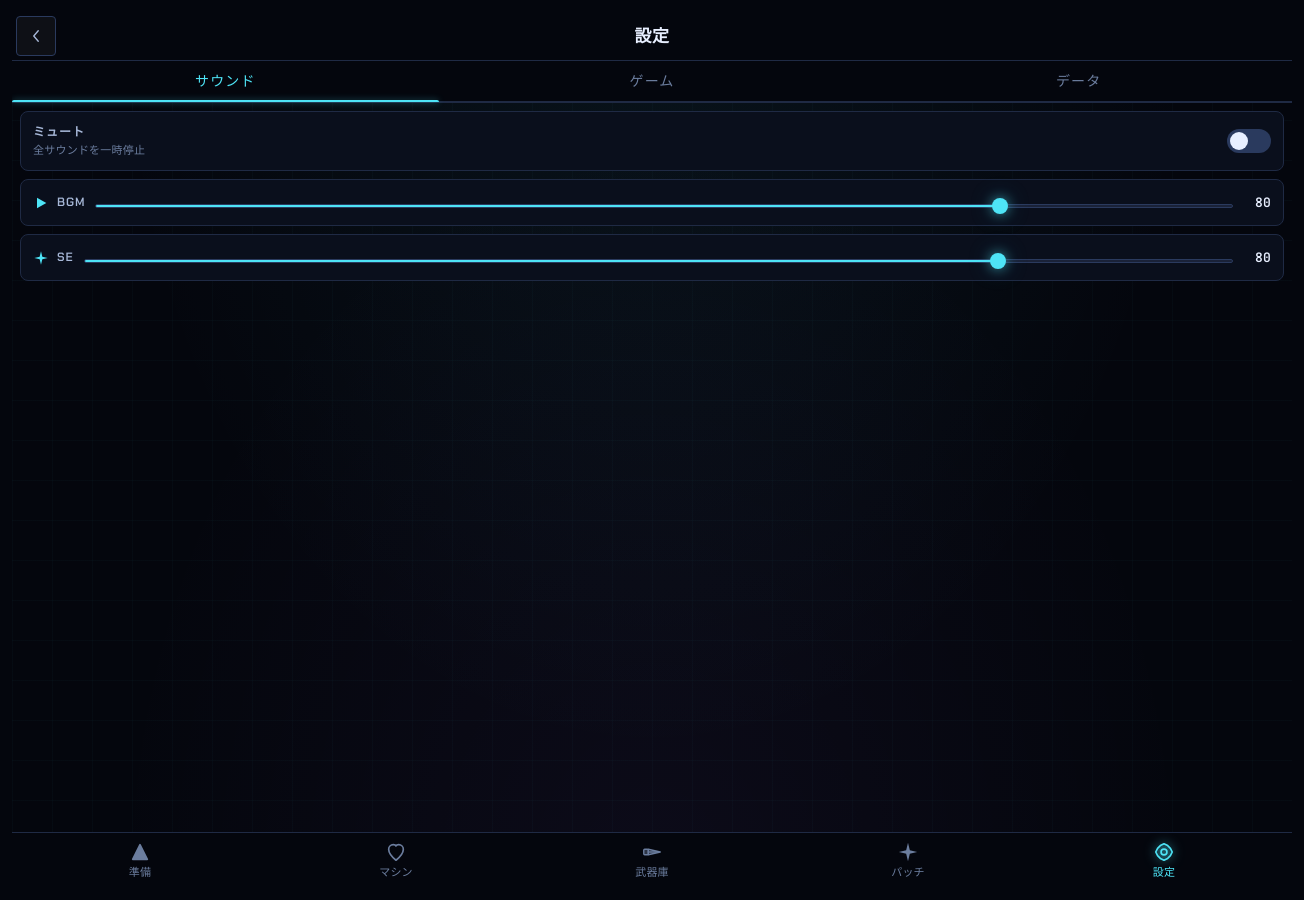
Test: SettingsScreen › 「データ」タブをクリックすると DataSettingsTab が表示される
The image size is (1304, 900).
What coordinates should you click on to do the following:
click the tab "データ"
I would click on:
 (1079, 81)
Its box is [865,61,1292,101].
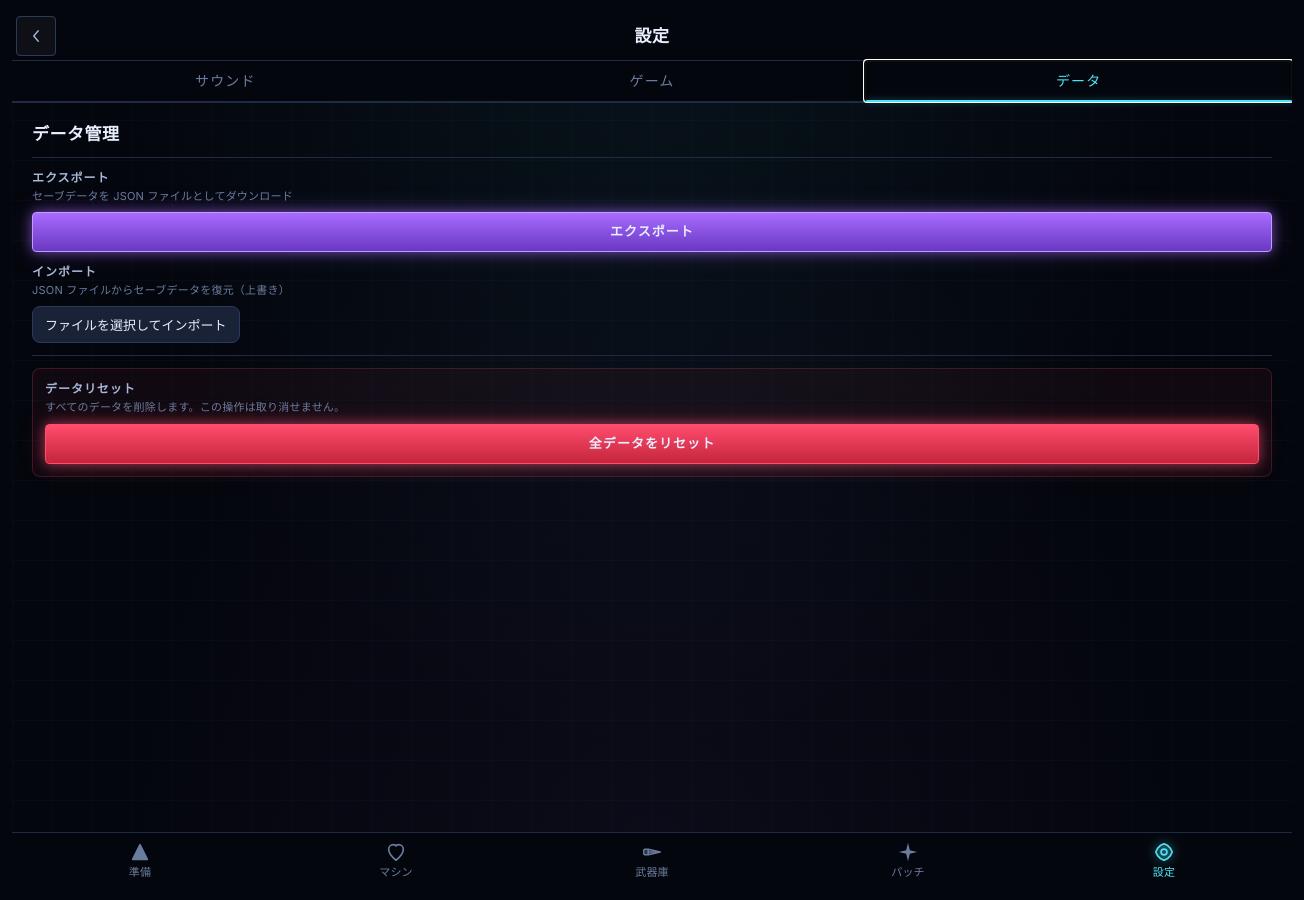
Result: the heading "データ管理" is shown at [32,123,120,145]
